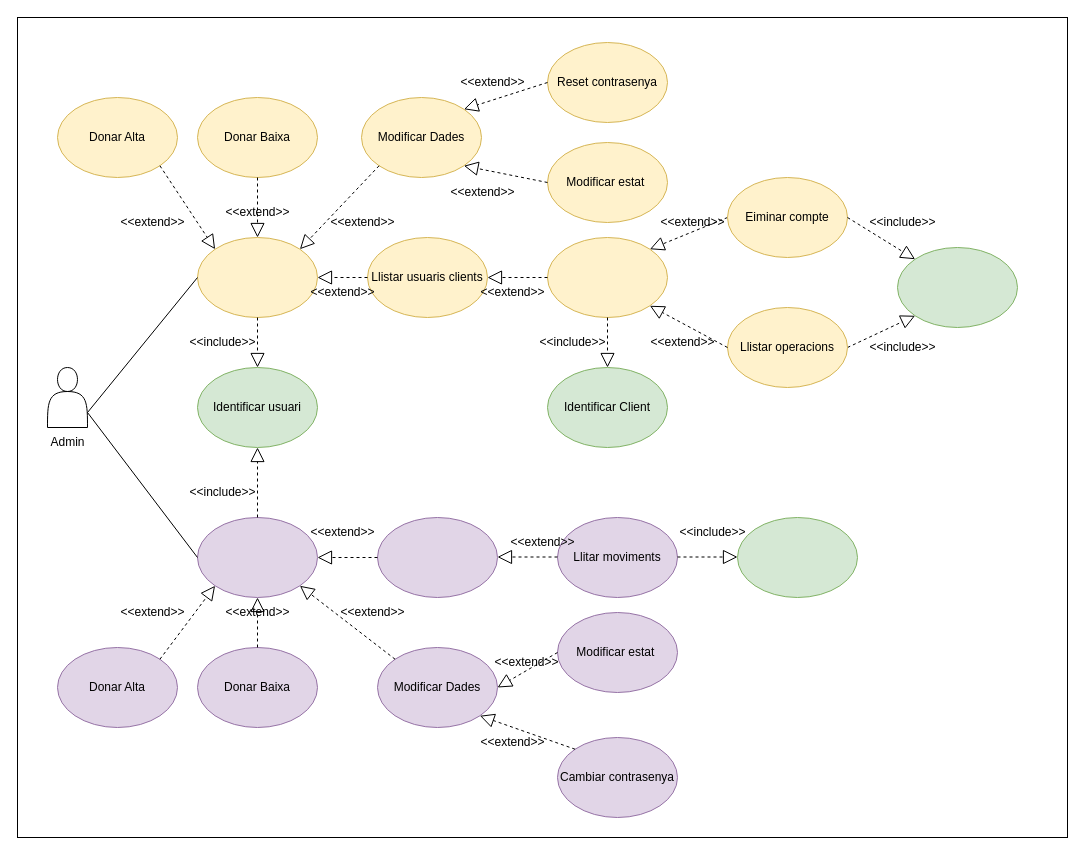
This 1085x855 diagram has some shape labels left out. Each missing label, with the centre of its shape:
"Identificar Admin" goes at point (797, 557).
"Identificar compte" goes at point (957, 287).
"Llistar admins" goes at point (437, 557).
"Llistar comptes" goes at point (607, 277).
"Mantenir admins" goes at point (257, 557).
"Mantenir clients" goes at point (257, 277).
